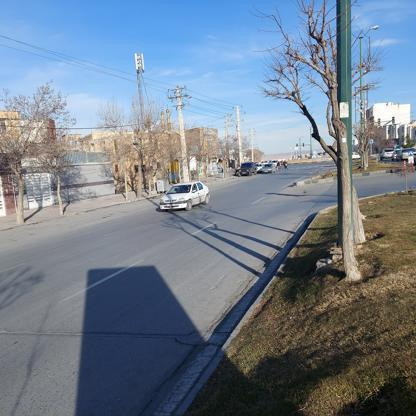Car: (160, 174, 208, 214), (234, 163, 258, 176), (259, 161, 278, 175), (395, 148, 416, 159), (381, 148, 396, 157)
